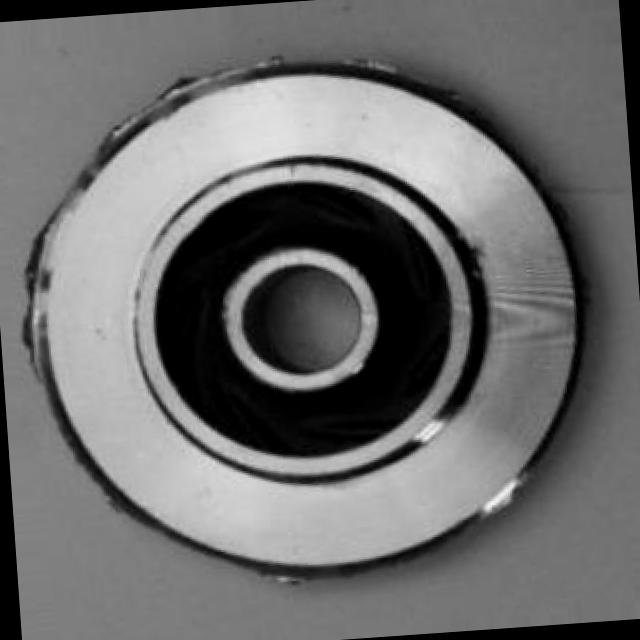Defect: (90, 62, 220, 148)
